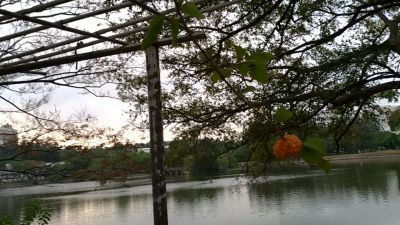eggs: (272, 134, 304, 162)
